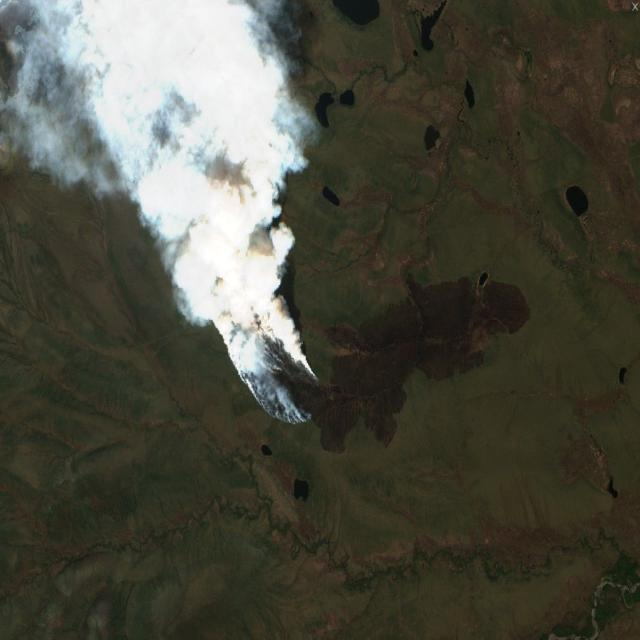fire: (212, 286, 322, 431)
